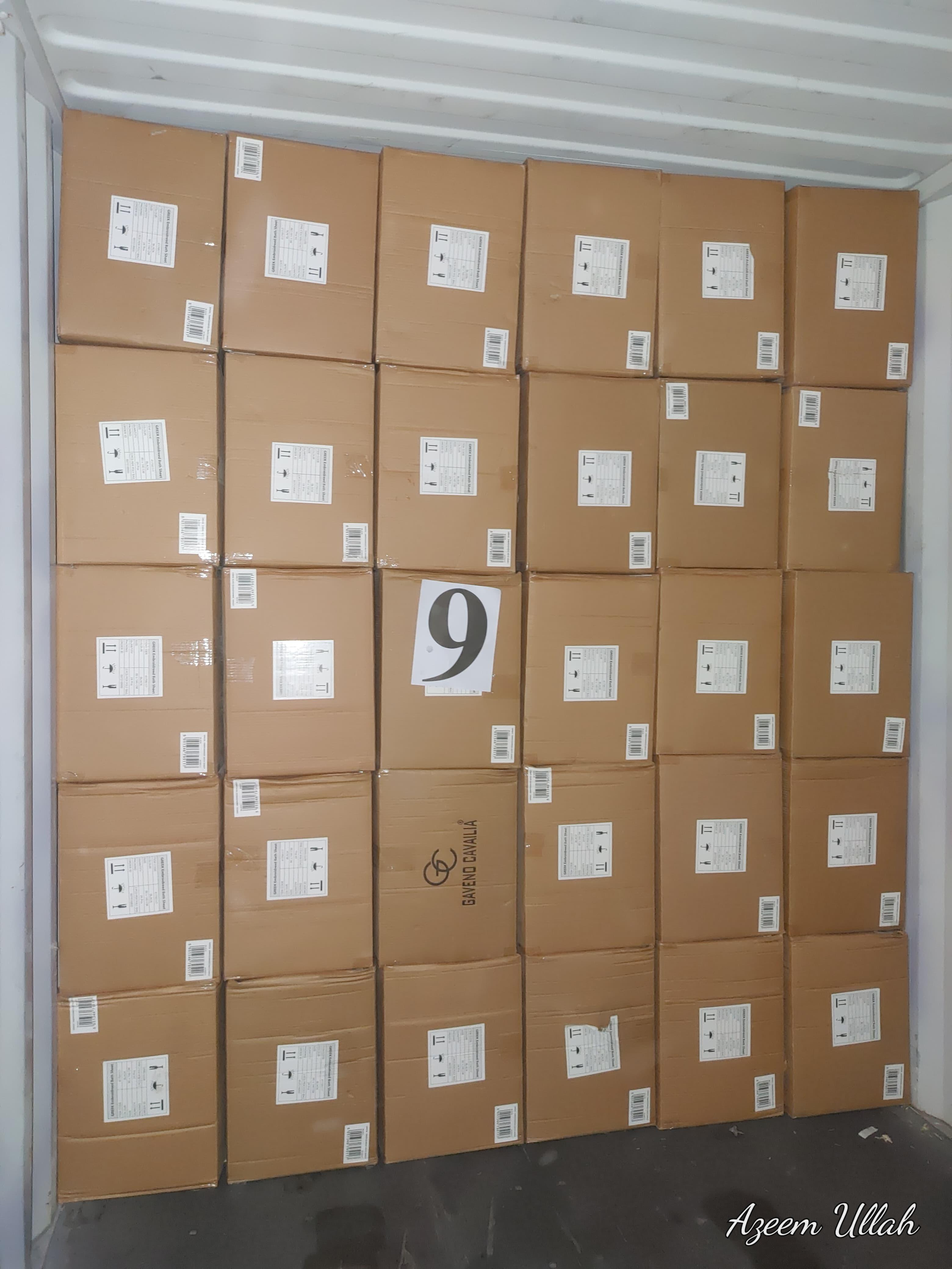carton: (56, 108, 227, 352), (55, 342, 221, 564), (54, 563, 222, 782), (221, 131, 379, 361), (57, 777, 223, 995), (374, 146, 527, 373), (56, 984, 222, 1189), (226, 967, 377, 1182), (223, 353, 374, 567), (222, 567, 375, 777), (515, 158, 662, 376), (374, 365, 520, 575), (223, 773, 372, 978), (377, 955, 524, 1162), (374, 569, 522, 770), (517, 373, 660, 573), (373, 768, 517, 966), (784, 184, 918, 389), (654, 172, 785, 379), (521, 573, 660, 765), (517, 764, 655, 953), (524, 944, 655, 1142), (780, 570, 912, 758), (655, 936, 784, 1128), (654, 753, 784, 941), (778, 385, 907, 570), (655, 379, 781, 568), (654, 568, 781, 755), (784, 932, 912, 1116), (783, 757, 908, 935)
